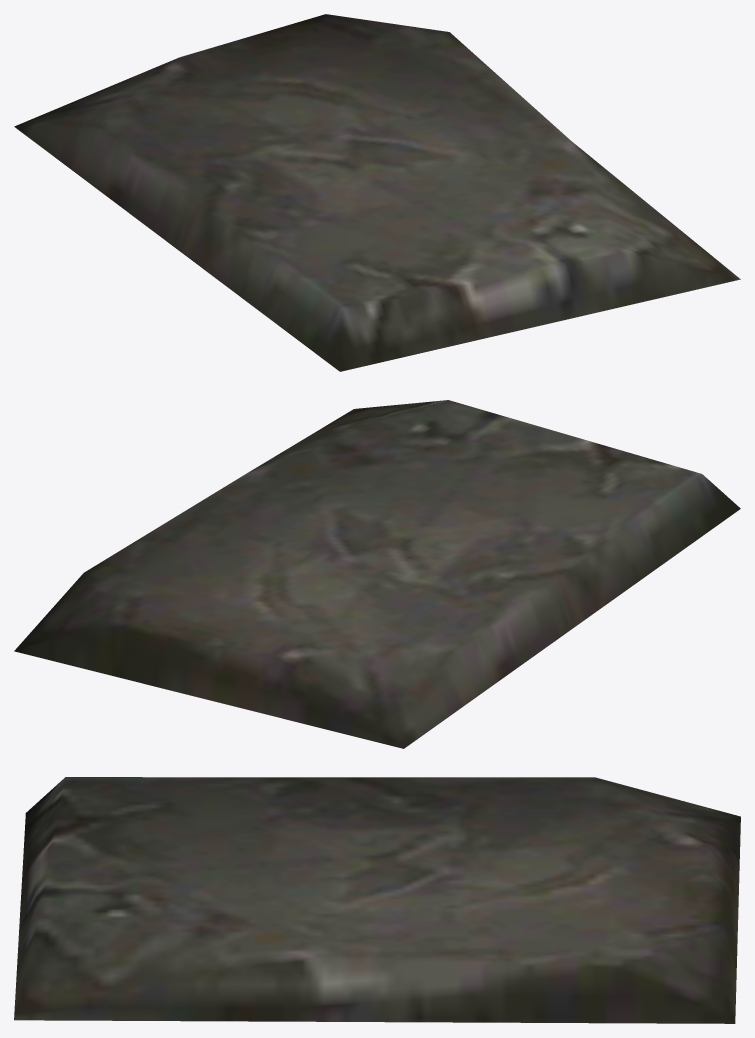
The model's file is h5_dizhuan_c.FBX.
The picture shows the model from 3 angles, top to bottom: view 1: azimuth 30°, elevation 25°; view 2: azimuth 150°, elevation 25°; view 3: azimuth 270°, elevation 25°; orthographic projection. The views are drawn at different scales.
Parts seen in each view (by area): view 1: h5_dizhuan_c; view 2: h5_dizhuan_c; view 3: h5_dizhuan_c.
Part boxes in pixels (left/top/right/bottom): h5_dizhuan_c: left=14, top=14, right=740, bottom=371; h5_dizhuan_c: left=14, top=400, right=740, bottom=748; h5_dizhuan_c: left=14, top=777, right=740, bottom=1023.
Size of the model in its own units: 1.09 by 0.1126 by 1.59.
